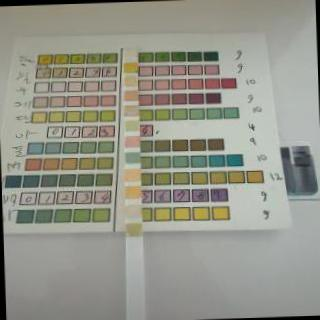mark: (122, 168, 142, 182), (122, 134, 139, 148), (122, 119, 140, 132), (122, 151, 140, 164), (122, 186, 141, 198), (126, 222, 142, 236), (124, 205, 142, 217), (122, 104, 138, 117), (122, 90, 138, 100), (122, 78, 137, 88), (123, 47, 137, 57), (124, 63, 138, 73)
